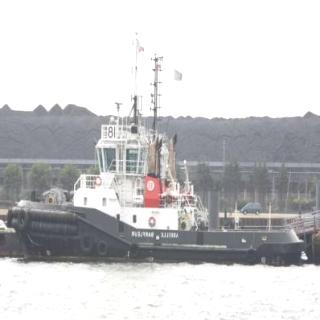Tug Boat: (0, 116, 320, 260)
